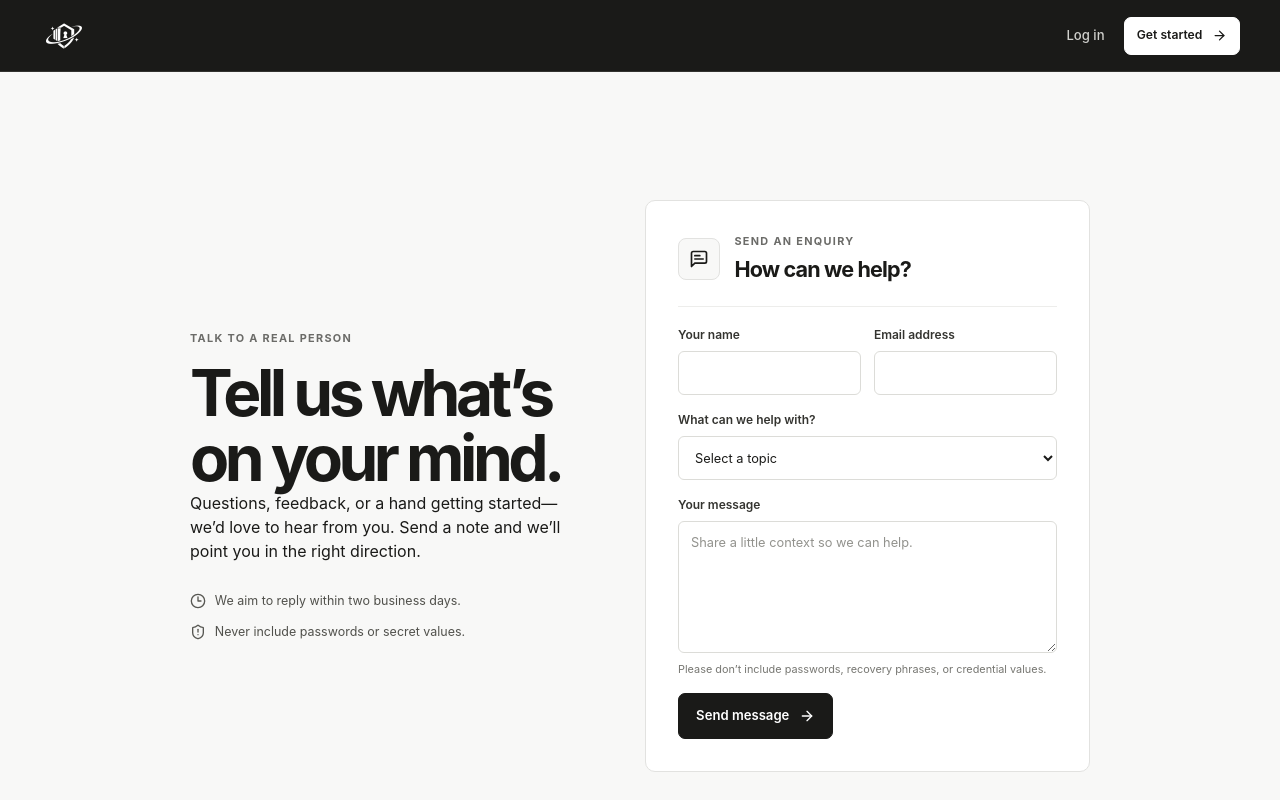
Company pages › submits the contact form and confirms success
Type "Alex" into the field labelled "Your name". click: (770, 373)
box: [678,351,861,395]
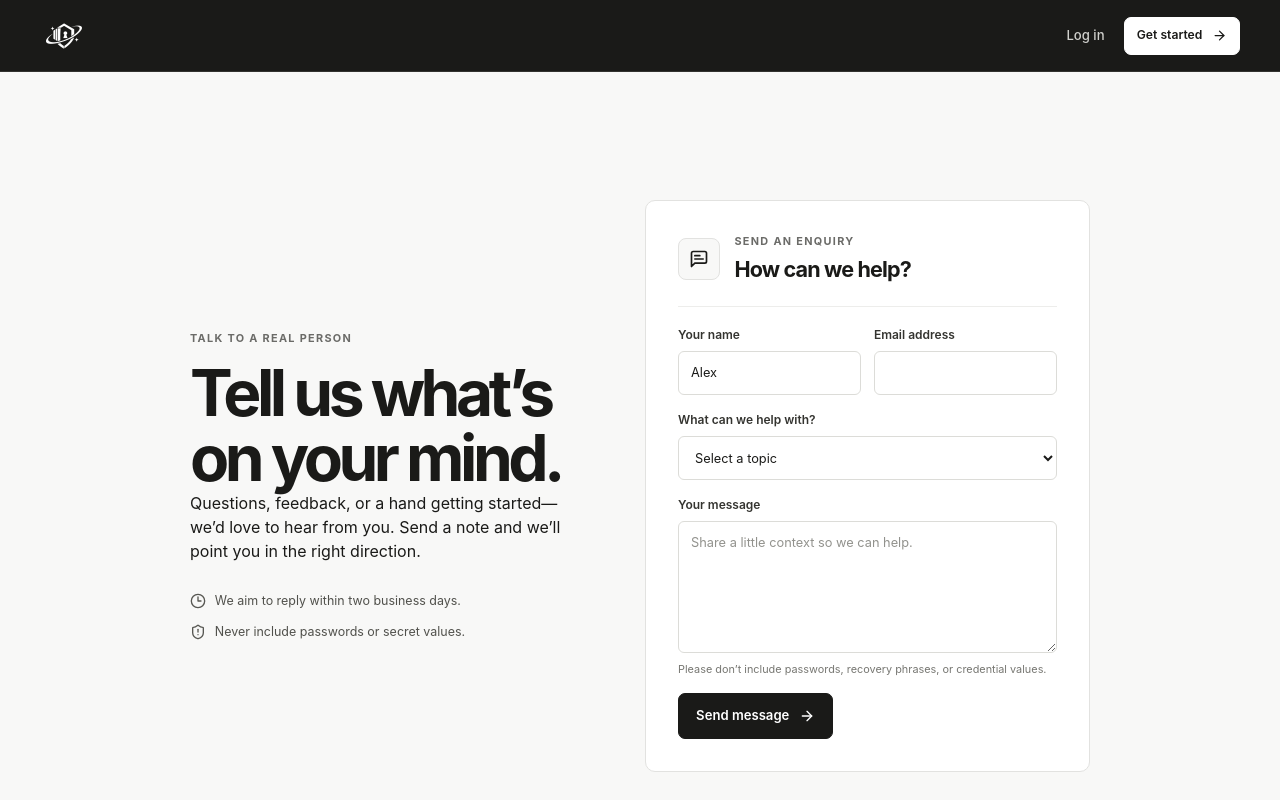
Type "alex@example.com" into the field labelled "Email address". click: (965, 373)
box: [874,351,1057,395]
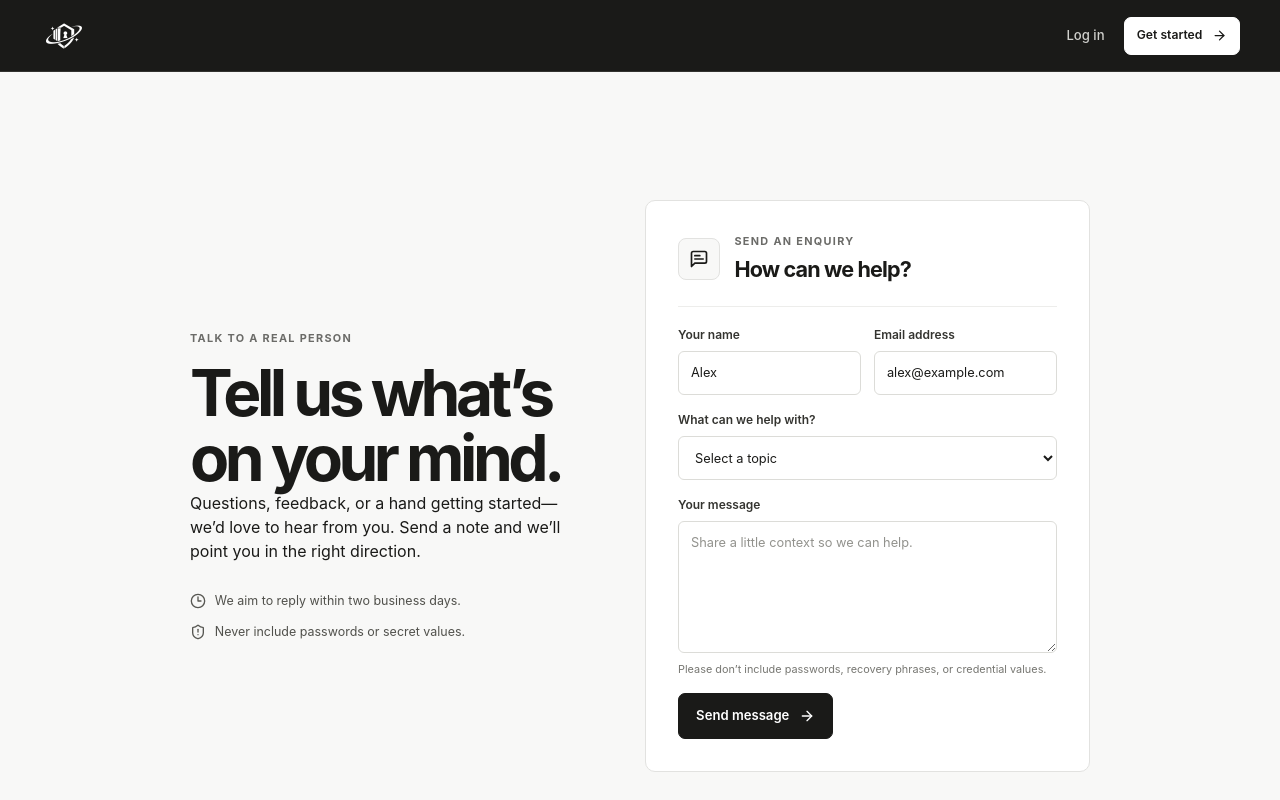
Select "General question" in the dropdown labelled "What can we help with?". click: (868, 458)
box: [678,436,1057,480]
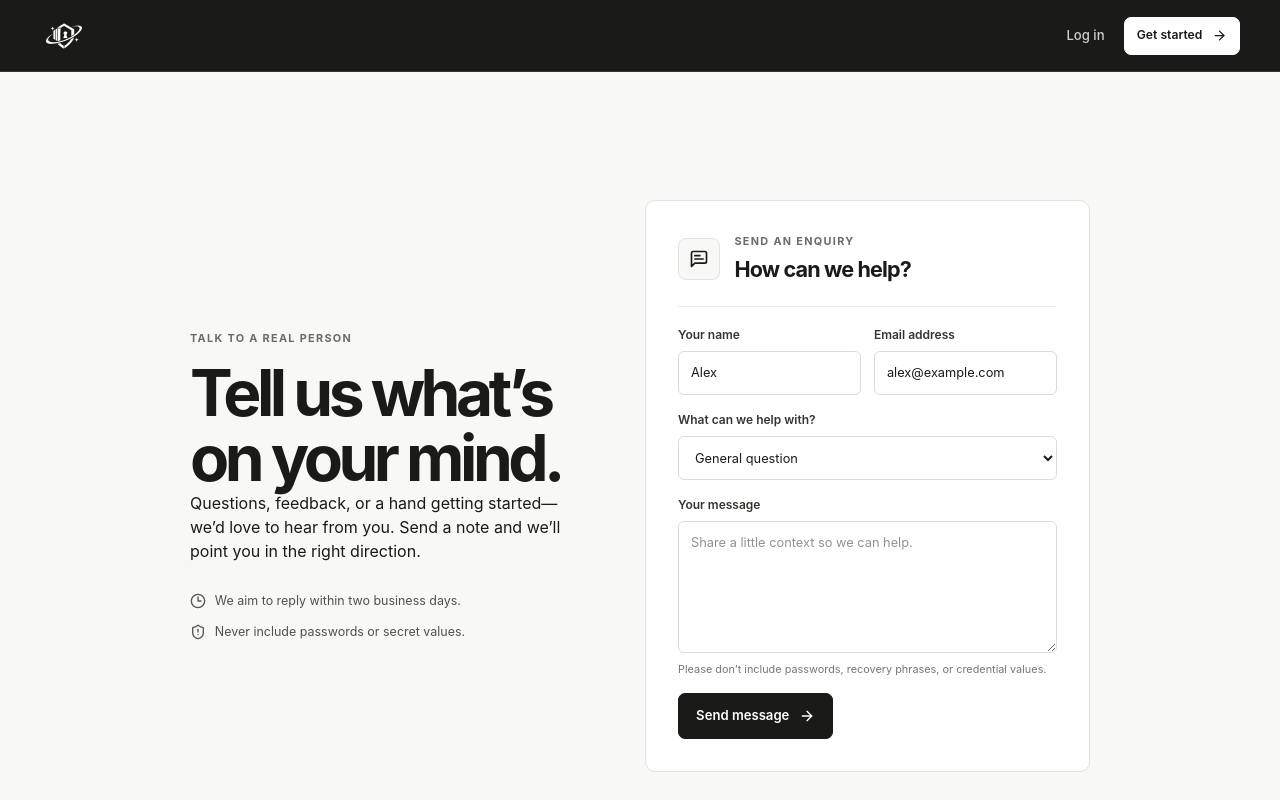
Type "I would like to learn more about Vaultnary." into the text box labelled "Your message". click: (868, 588)
box: [678,522,1057,654]
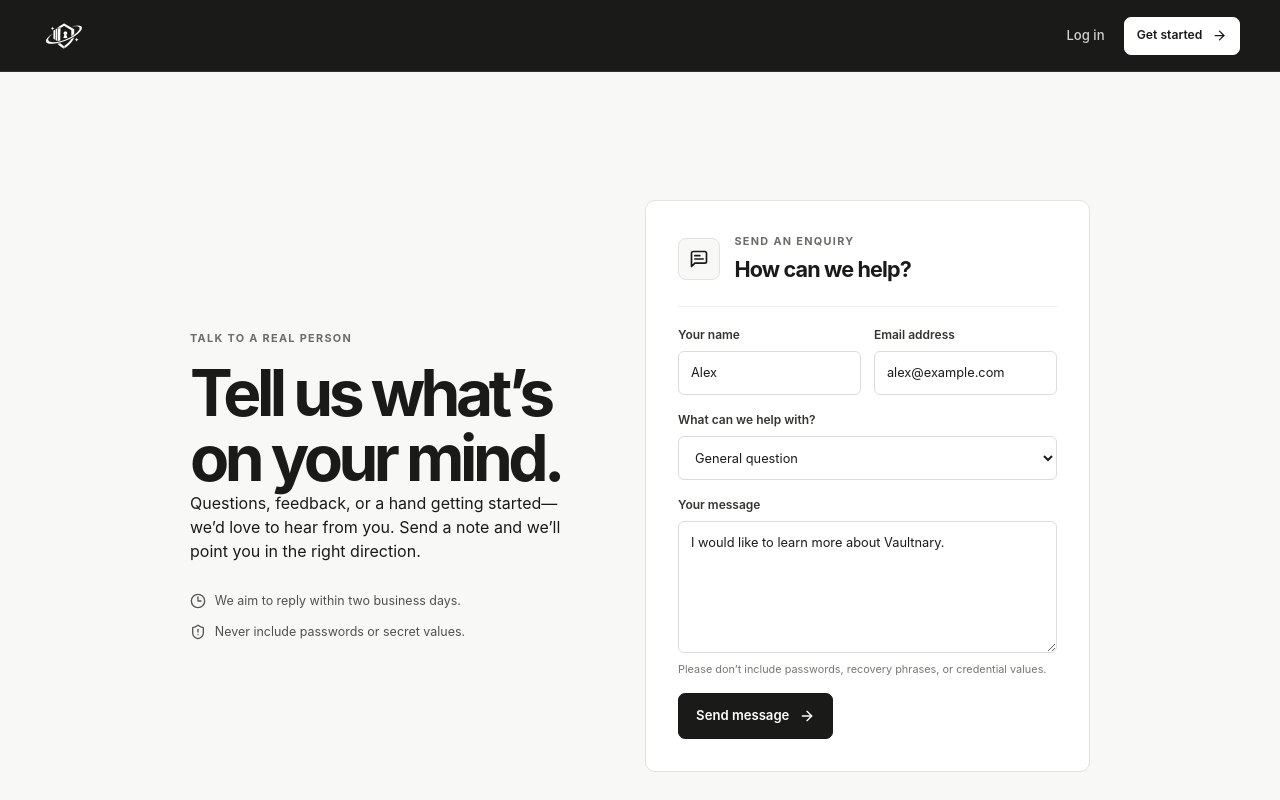
Click the button "Send message". click: (756, 716)
box: [678,693,833,739]
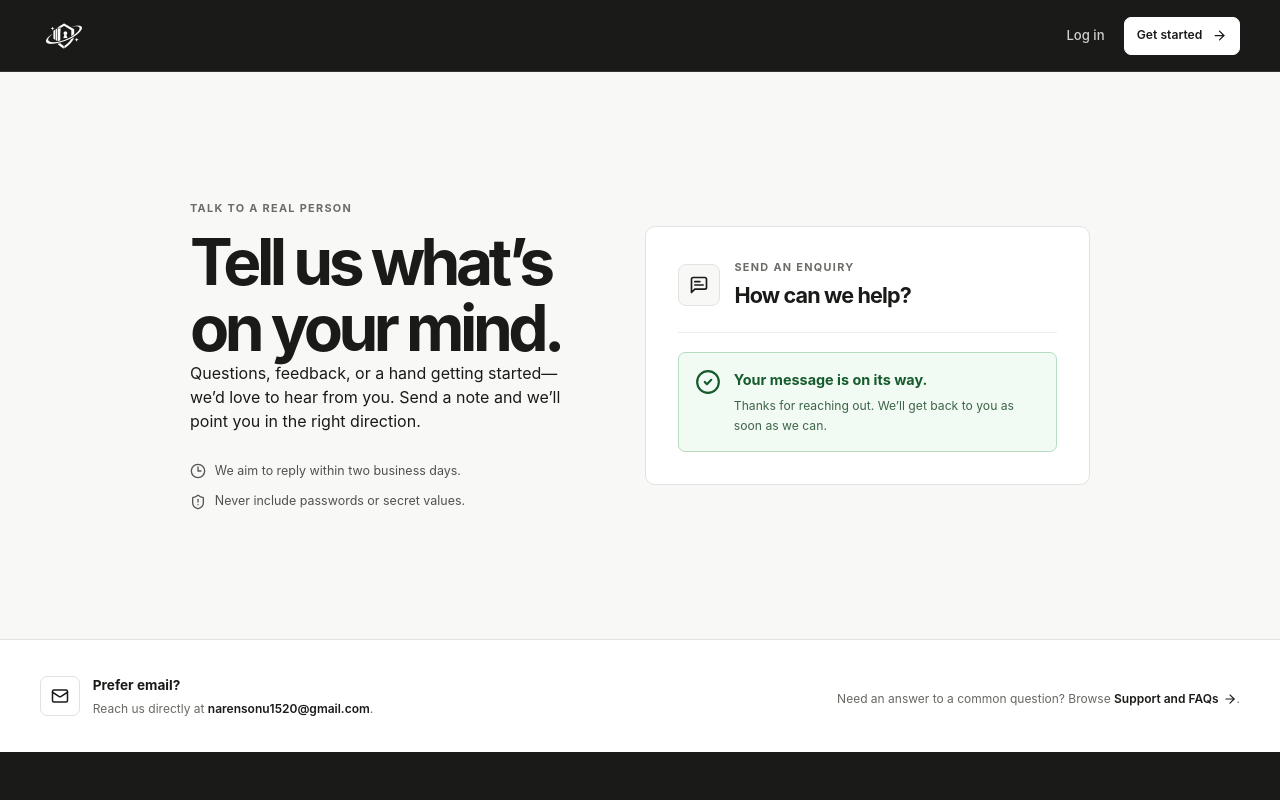
Now the message shows "Your message is on its way.", box [734,371,927,388]
